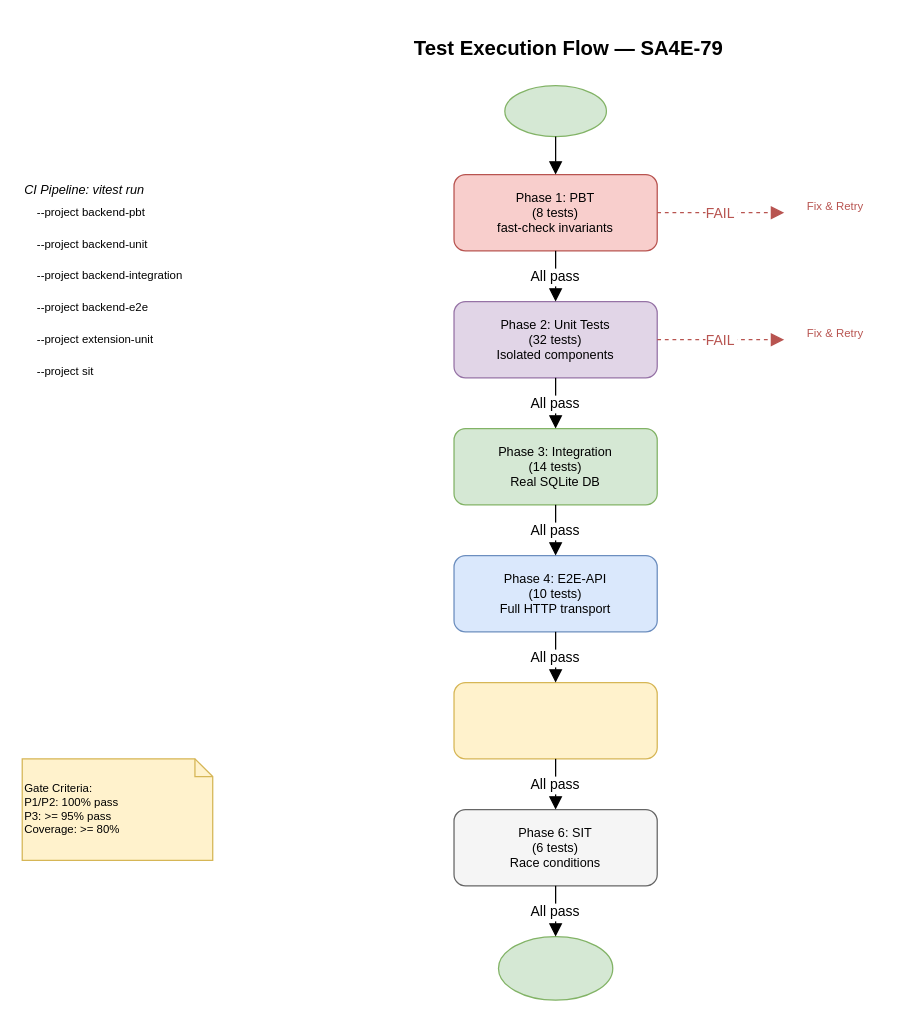
The diagram is 908 pixels wide and 1022 high, and some of its shapes have lost their labels. The centre of each missing label's shape, as x and y in pixels:
Phase 5: E2E-UI (4 tests) Extension host: point (555, 720)
RELEASE READY: point (555, 967)
START: point (555, 110)
